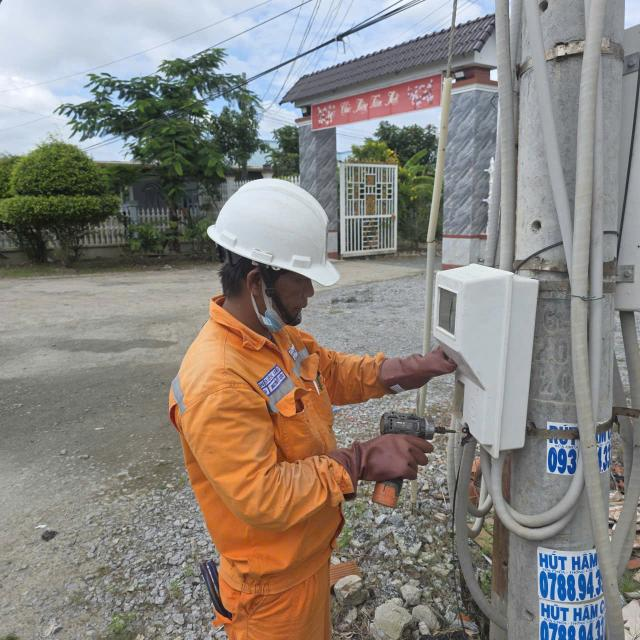gloves: (318, 415, 444, 496), (363, 328, 464, 399)
helmet: (176, 162, 377, 303)
